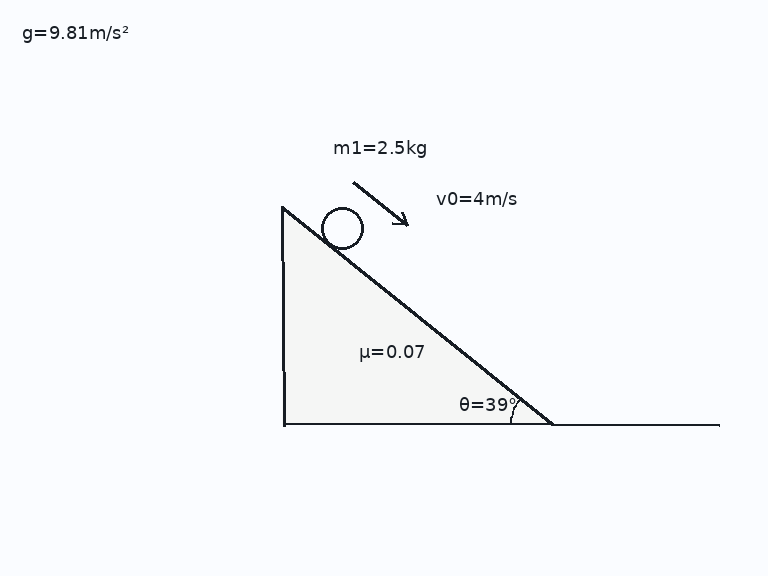ball: (319, 205, 365, 251)
ramp: (281, 205, 553, 426)
